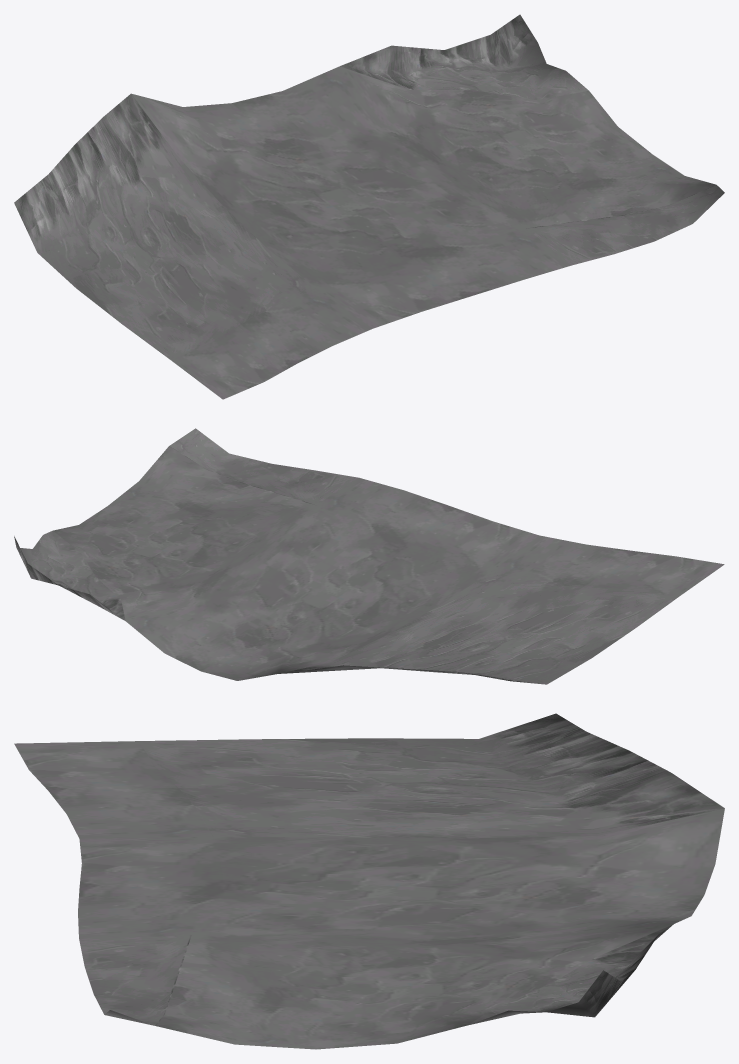
The model's file is SWORDLIGHT20_PS-AREA03_140.fbx.
3 renders of one model, top to bottom at view 1: azimuth 30°, elevation 25°; view 2: azimuth 150°, elevation 25°; view 3: azimuth 270°, elevation 25°, orthographic. The views are drawn at different scales.
Parts seen in each view (by area): view 1: SWORDLIGHT20_PS-AREA03_140; view 2: SWORDLIGHT20_PS-AREA03_140; view 3: SWORDLIGHT20_PS-AREA03_140.
Part boxes in pixels (x1,y1,x2,y2): SWORDLIGHT20_PS-AREA03_140: (14,14,724,399); SWORDLIGHT20_PS-AREA03_140: (14,428,724,684); SWORDLIGHT20_PS-AREA03_140: (14,713,724,1049).
Bounding box in the file's own units: 129839 × 17254 × 118051.
3 materials, 3 textured.
